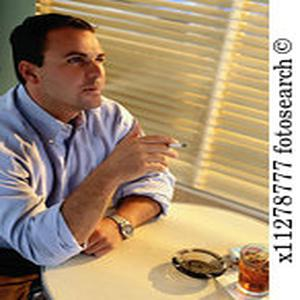cigarette: (166, 140, 190, 149)
